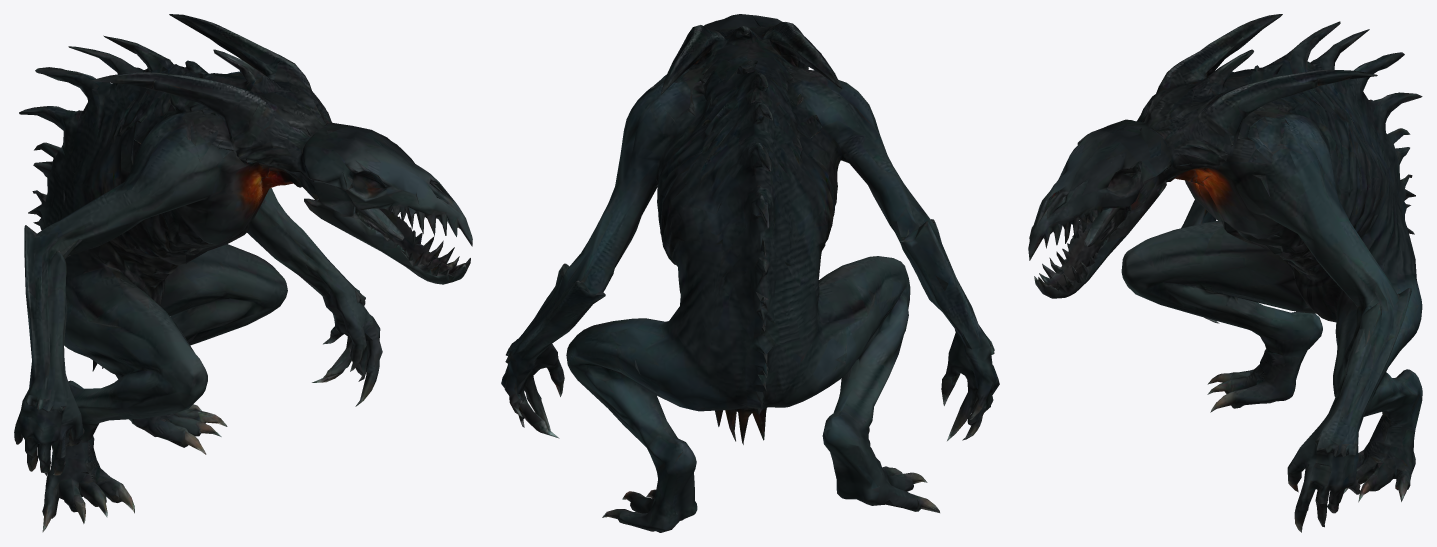
Rendered from maw.glb.
3 views of the same model, side by side, from view 1: azimuth 30°, elevation 25°; view 2: azimuth 150°, elevation 25°; view 3: azimuth 270°, elevation 25° (orthographic). The views are drawn at different scales.
Parts seen in each view (by area): view 1: Mesh_0.002; view 2: Mesh_0.002; view 3: Mesh_0.002.
Boxes of the visible parts, left/top/right/bottom form: Mesh_0.002: left=14, top=14, right=472, bottom=532; Mesh_0.002: left=501, top=14, right=999, bottom=532; Mesh_0.002: left=1028, top=14, right=1422, bottom=532.
Size of the model in its own units: 1.04 by 1.03 by 0.8722.
1 material, 1 textured.
